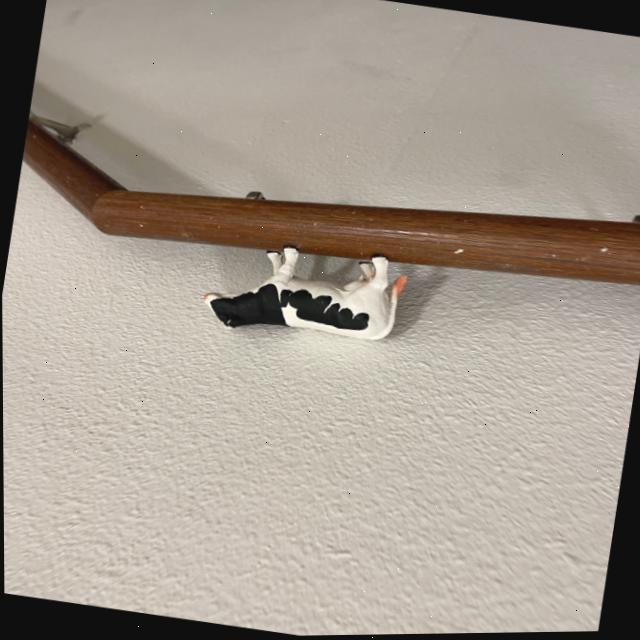cow: (201, 238, 408, 347)
